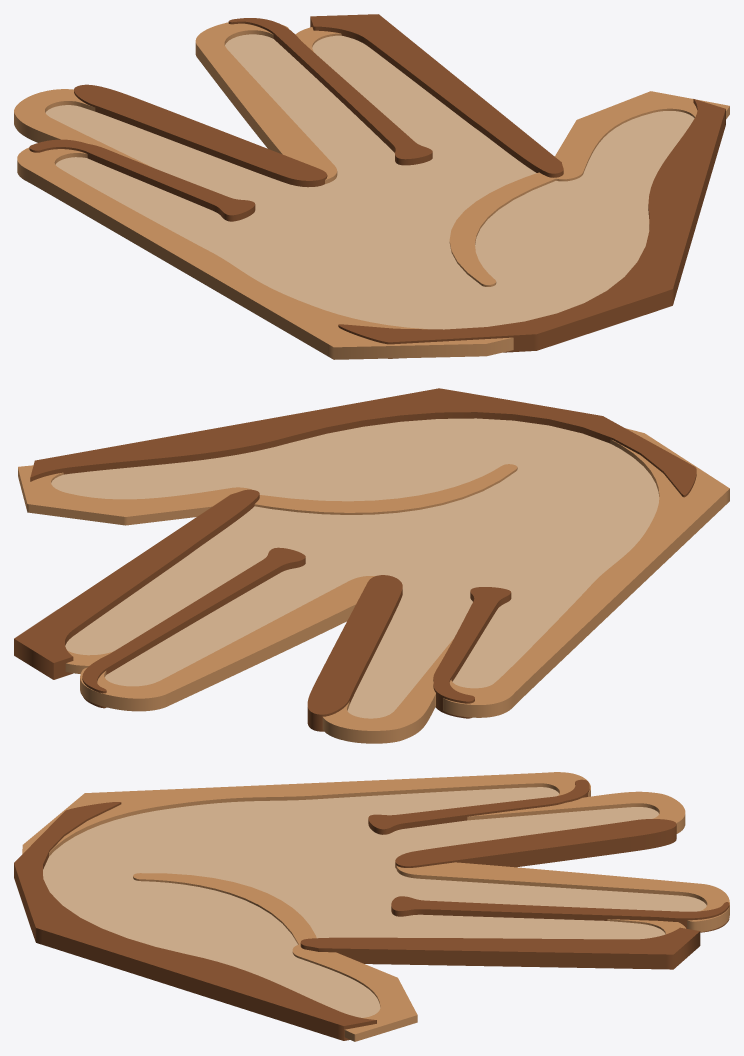
File: emoji_u1f596_1f3fc.glb
3 views of the same model, one above another, from view 1: azimuth 30°, elevation 25°; view 2: azimuth 150°, elevation 25°; view 3: azimuth 270°, elevation 25° (orthographic). The views are drawn at different scales.
Visible parts, largest first — view 1: emoji_u1f596_1f3fc; view 2: emoji_u1f596_1f3fc; view 3: emoji_u1f596_1f3fc.
Boxes of the visible parts, x1=… form: emoji_u1f596_1f3fc: x1=14, y1=14, x2=729, y2=359; emoji_u1f596_1f3fc: x1=14, y1=388, x2=729, y2=743; emoji_u1f596_1f3fc: x1=14, y1=772, x2=729, y2=1041.
Size of the model in its own units: 0.0299 by 0.0008 by 0.0348.
